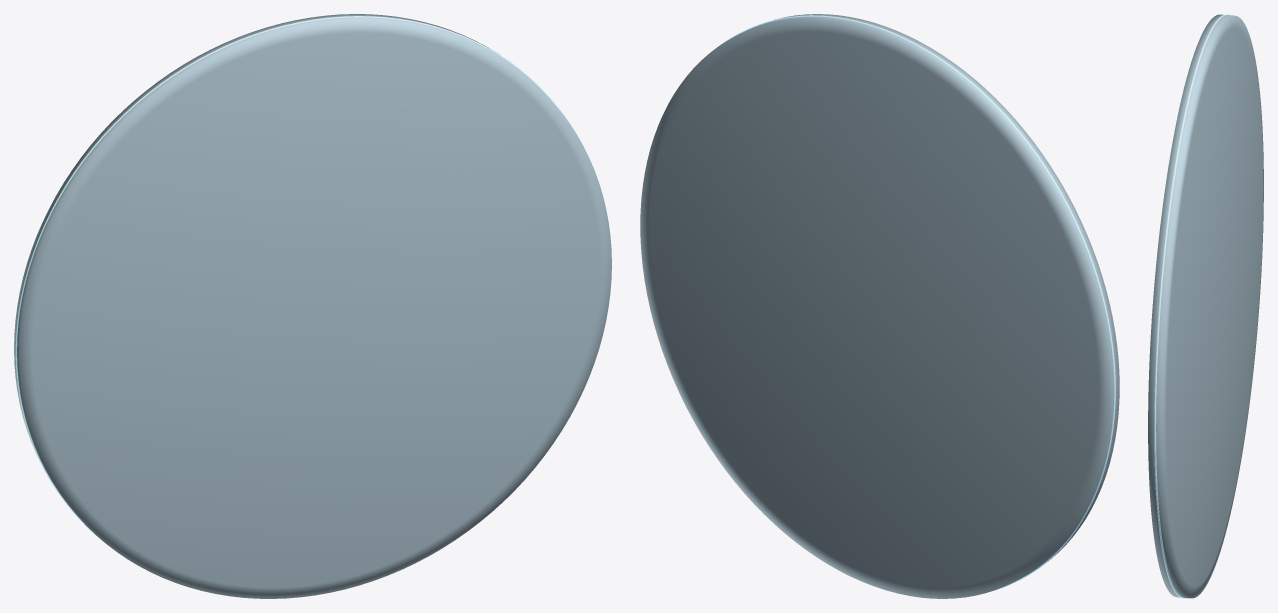
File: stellest-final.glb
3 renders of one model, left to right at view 1: azimuth 30°, elevation 25°; view 2: azimuth 150°, elevation 25°; view 3: azimuth 270°, elevation 25°, orthographic. The views are drawn at different scales.
Parts seen in each view (by area): view 1: Lens_Glass, Lens_Edge; view 2: Lens_Glass, Lens_Edge; view 3: Lens_Glass, Lens_Edge.
Boxes of the visible parts, x1,y1,x2,y2 form: Lens_Glass: [14, 14, 611, 598]; Lens_Edge: [15, 16, 587, 550]; Lens_Glass: [640, 14, 1119, 598]; Lens_Edge: [719, 15, 1115, 592]; Lens_Glass: [1148, 14, 1263, 598]; Lens_Edge: [1154, 14, 1230, 598].
Size of what is drawn, in the model's own units: 3.35 by 3.4 by 0.6709.
